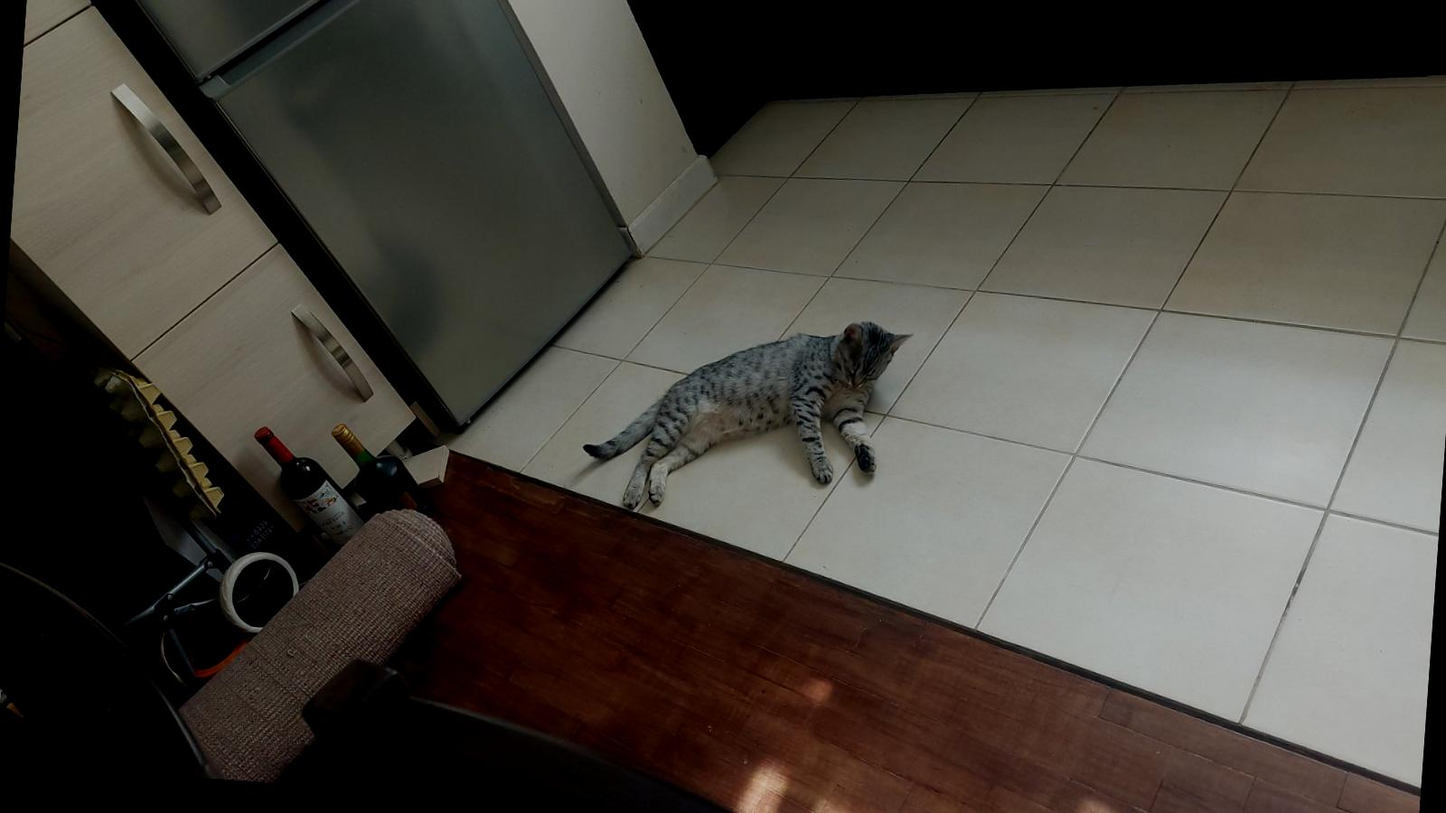macka: (579, 302, 916, 527)
